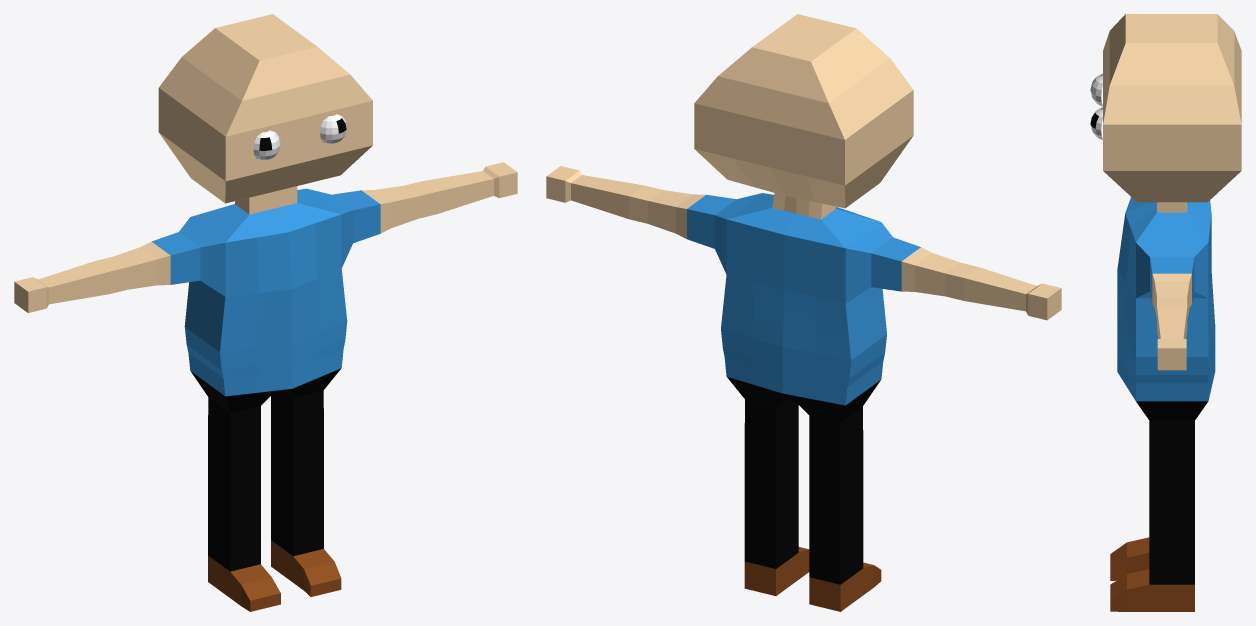
File: NormalPerson.fbx
3 renders of one model, left to right at view 1: azimuth 30°, elevation 25°; view 2: azimuth 150°, elevation 25°; view 3: azimuth 270°, elevation 25°, orthographic. The views are drawn at different scales.
Parts seen in each view (by area): view 1: Person_LOD0; view 2: Person_LOD0; view 3: Person_LOD0.
Boxes of the visible parts, <box> form: Person_LOD0: <box>14,14,517,611</box>; Person_LOD0: <box>546,14,1061,611</box>; Person_LOD0: <box>1090,14,1241,611</box>.
Size of what is drawn, in the model's own units: 127 by 135 by 32.94.
